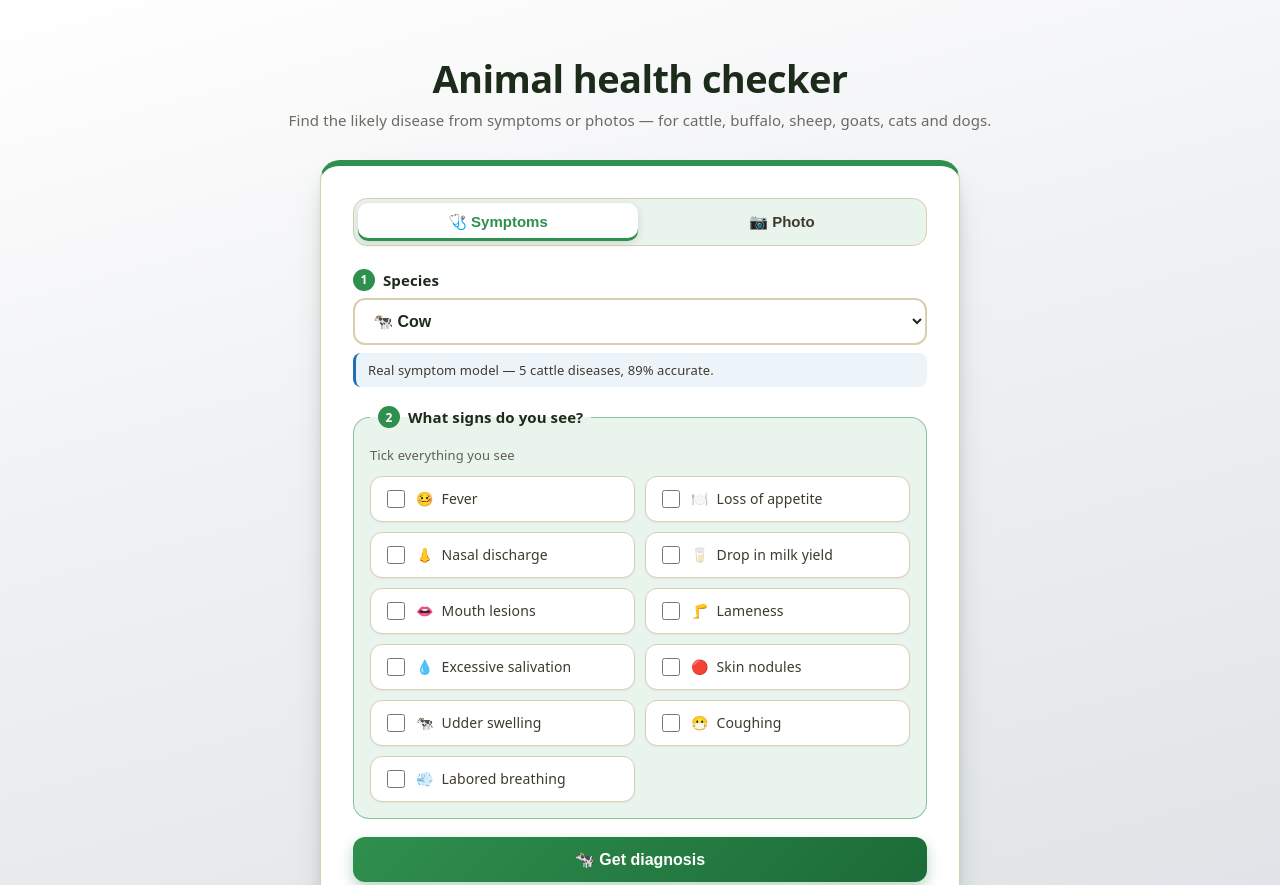
Test case: DiagnosisIntake › announces the result and moves focus to it
The width and height of the screenshot is (1280, 885).
What coordinates should you click on to do the following:
click the checkbox labelled "🤒 Fever"
I would click on:
 (396, 499)
Its box is [387,490,405,508].
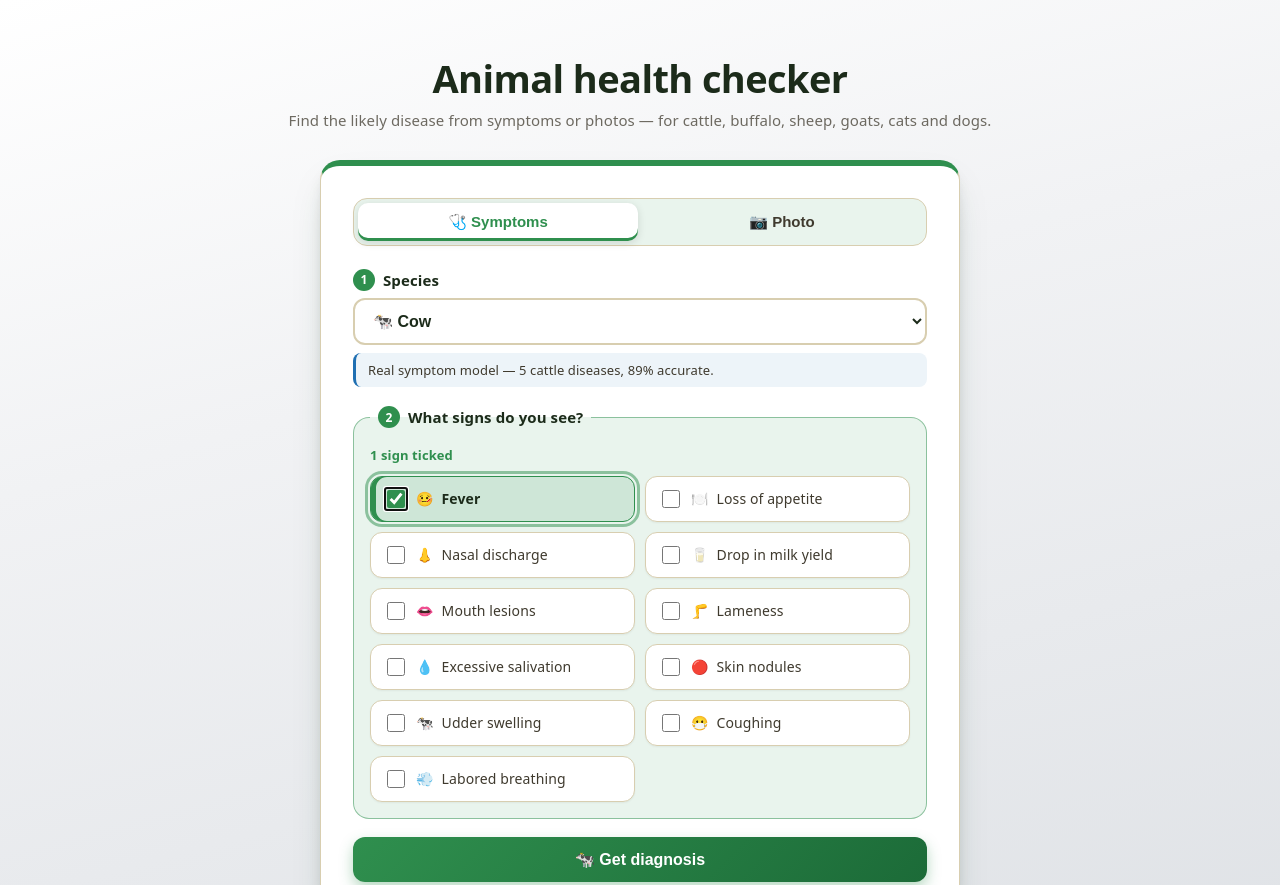
What coordinates should you click on to do the following:
click the button "🐄 Get diagnosis"
I would click on:
 (640, 860)
Its box is [353,837,927,882].
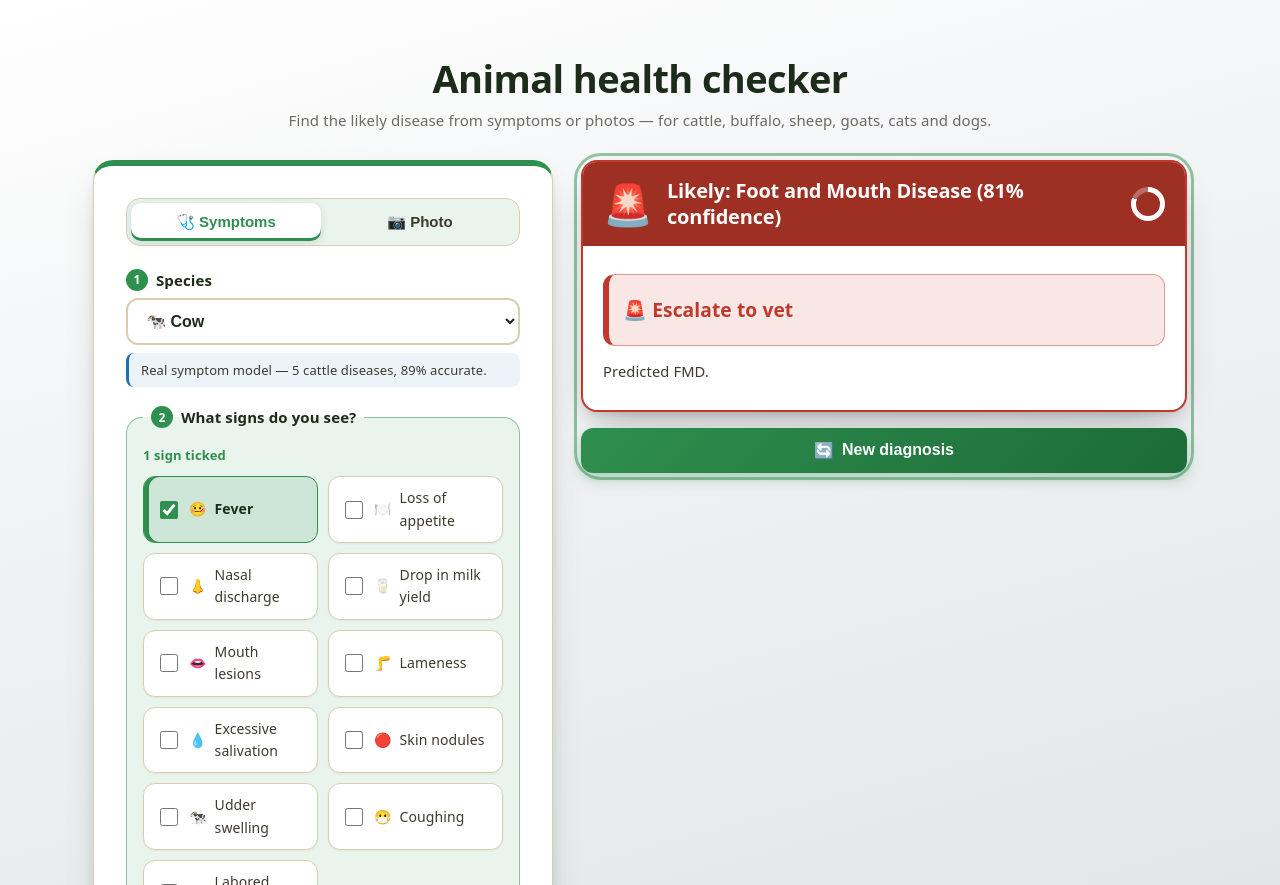
Expected: the heading "Likely: Foot and Mouth Disease (81% confidence)" is shown, [667,177,1024,230]
